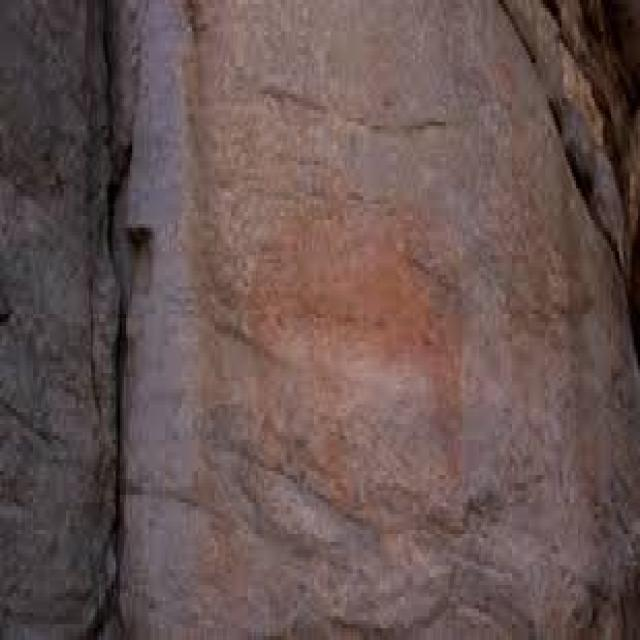Metamorphic: (2, 8, 636, 620)
